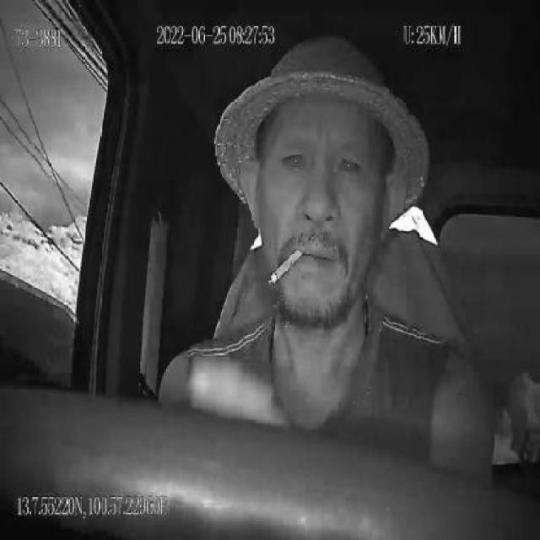smoking: (267, 246, 303, 287)
